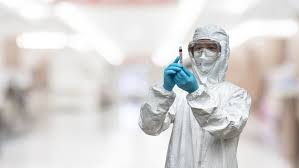glove: (161, 56, 183, 90), (172, 66, 196, 90)
